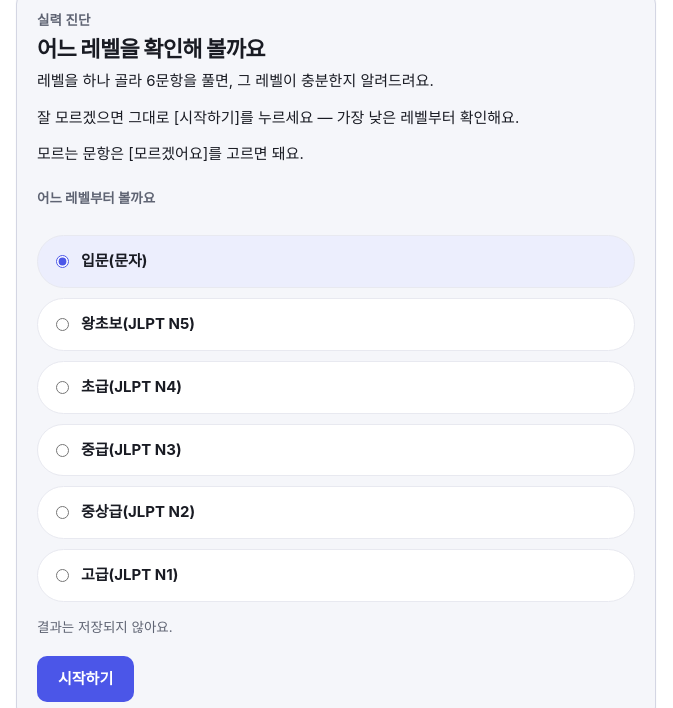
Test: 미응답인 채로 누르면 제출되지 않는다 (A48 · A49 · E26) › 한 문항도 고르지 않고 누르면 1번 문항으로 가고, 6문항 전부에 안내가 붙고, 남은 수는 6이다 (E26)
Step 1. Click the radio button labelled "왕초보(JLPT N5)" → x=62, y=325, box left=56, top=318, right=69, bottom=331
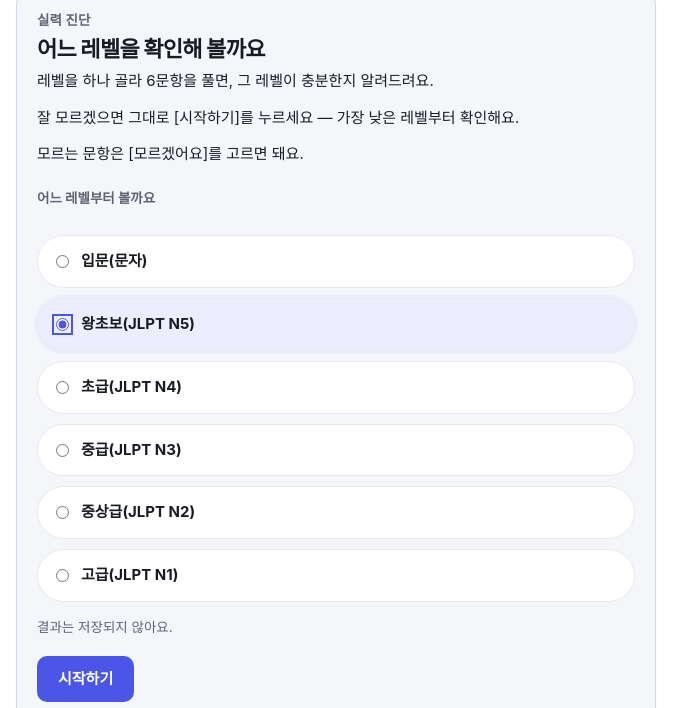
Step 2. Click the button "시작하기" → x=86, y=679, box left=37, top=656, right=134, bottom=702
(page scrolled)
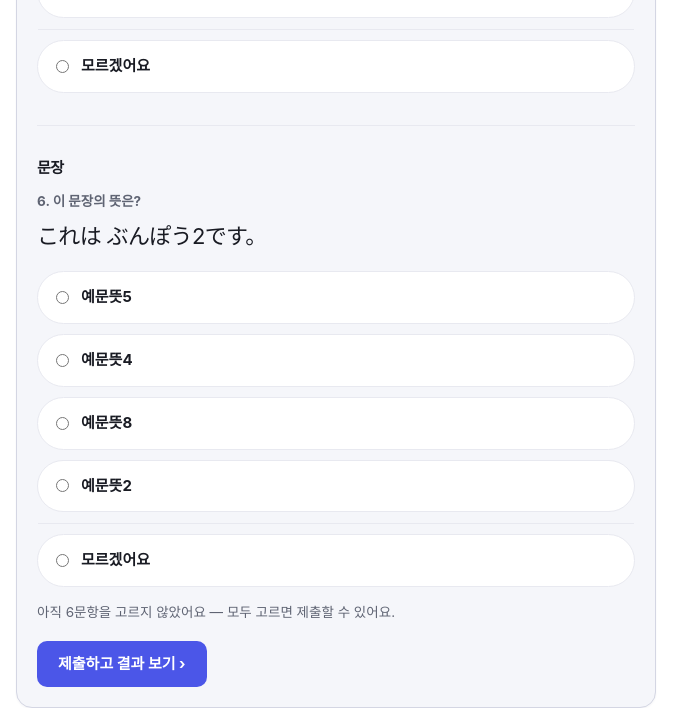
Expected: the button "제출하고 결과 보기 ›" is shown
Step 3. Click the button "제출하고 결과 보기 ›" → x=122, y=664, box left=37, top=641, right=206, bottom=687
(page scrolled)
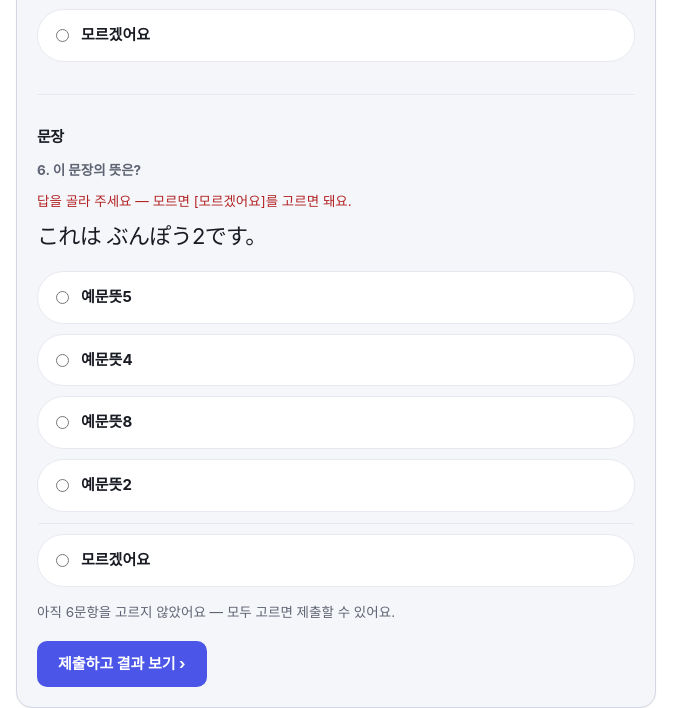
Expected: the text "답을 골라 주세요 — 모르면 [모르겠어요]를 고르면 돼요." is shown 6 times
